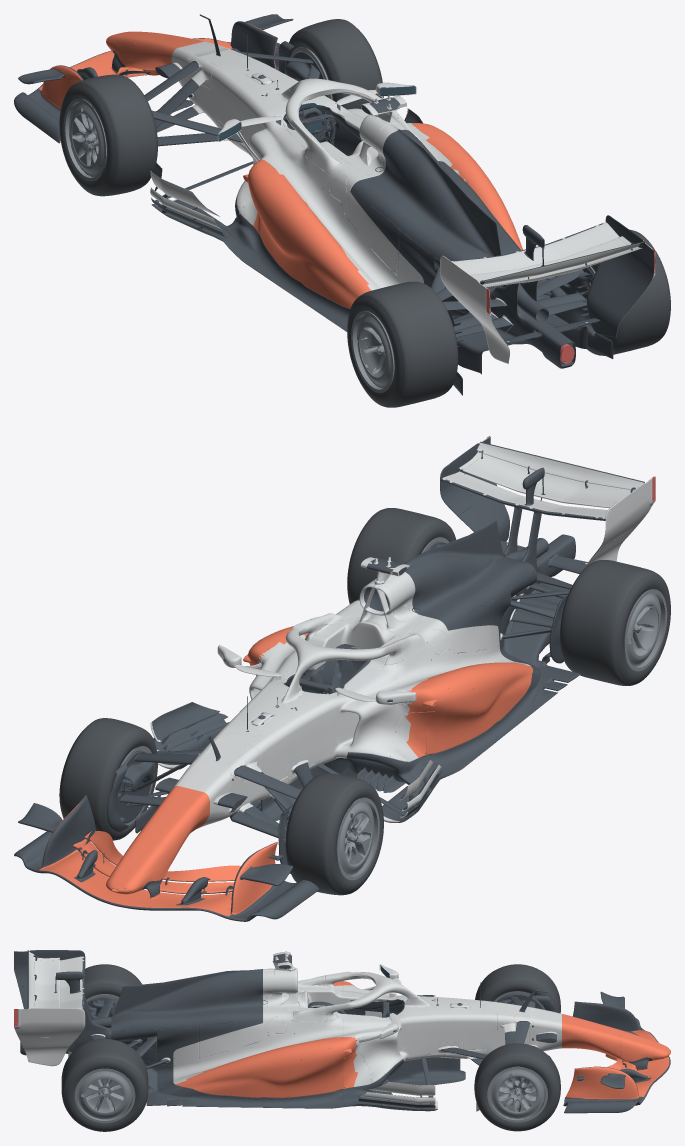
File: audi-medium.glb
3 views of the same model, one above another, from view 1: azimuth 30°, elevation 25°; view 2: azimuth 150°, elevation 25°; view 3: azimuth 270°, elevation 25° (orthographic). The views are drawn at different scales.
Parts seen in each view (by area): view 1: body, wheel2, wheel0, rearFlaps, frontFlaps, wheel1, wheel3, frontWing, rearWing; view 2: body, frontFlaps, wheel2, rearFlaps, wheel0, wheel1, frontWing, wheel3, rearWing; view 3: body, frontFlaps, wheel3, wheel1, rearFlaps, wheel0, frontWing, wheel2, rearWing.
Part boxes in pixels (box(x1,y1,x2,y2)): body: box(144, 14, 647, 395); wheel2: box(347, 281, 458, 407); wheel0: box(59, 74, 157, 196); rearFlaps: box(440, 215, 655, 316); frontFlaps: box(21, 16, 281, 121); wheel1: box(285, 19, 383, 109); wheel3: box(587, 229, 670, 355); frontWing: box(14, 14, 293, 143); rearWing: box(443, 255, 654, 326); body: box(107, 482, 647, 873); frontFlaps: box(21, 786, 303, 916); wheel2: box(560, 560, 670, 685); rearFlaps: box(440, 436, 655, 538); wheel0: box(285, 773, 383, 895); wheel1: box(59, 718, 157, 840); frontWing: box(14, 803, 319, 921); wheel3: box(347, 508, 456, 603); rearWing: box(442, 476, 653, 547); body: box(16, 951, 561, 1111); frontFlaps: box(562, 996, 670, 1102); wheel3: box(61, 1039, 148, 1131); wheel1: box(474, 1043, 560, 1131); rearFlaps: box(14, 950, 85, 1027); wheel0: box(475, 964, 560, 1013); frontWing: box(563, 991, 670, 1113); wheel2: box(84, 964, 141, 1001); rearWing: box(14, 971, 90, 1036).
Size of the model in its own units: 1.9 by 1.2 by 5.41.
